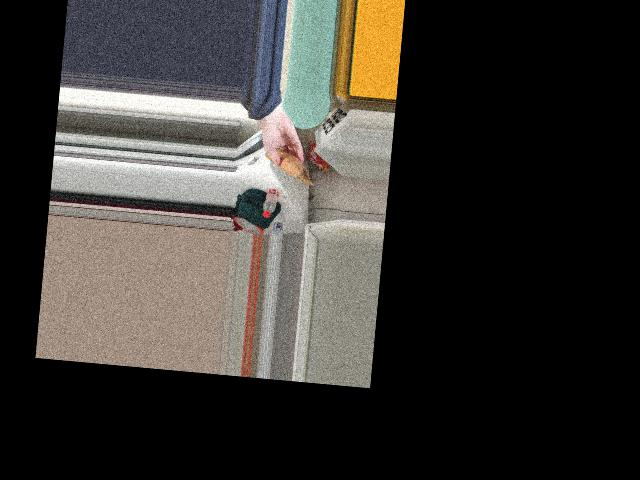sweet_potato: (268, 143, 303, 177)
